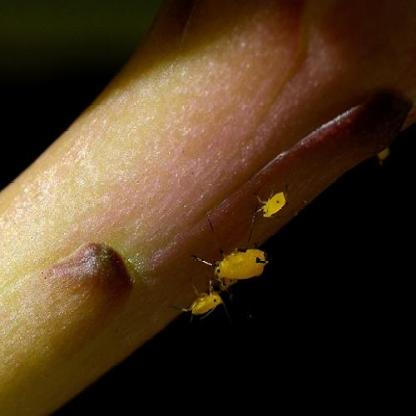aphid: (207, 234, 273, 292), (251, 164, 295, 229), (181, 280, 229, 327)
